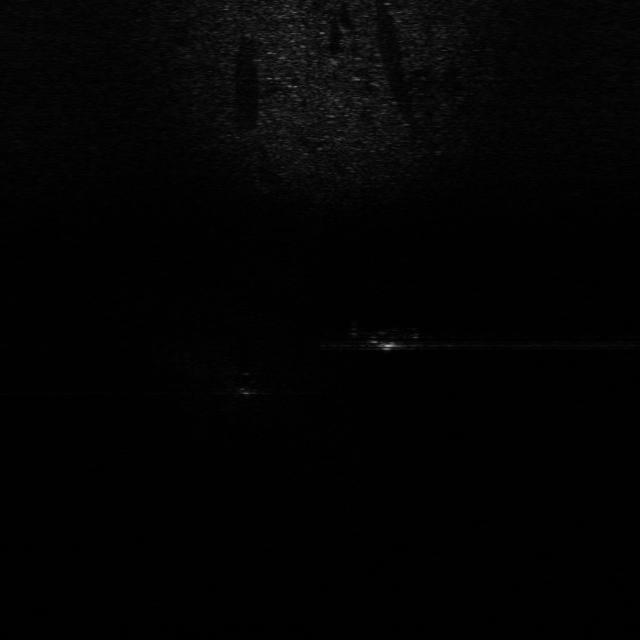ball: (233, 370, 264, 398)
human body: (342, 316, 438, 357)
